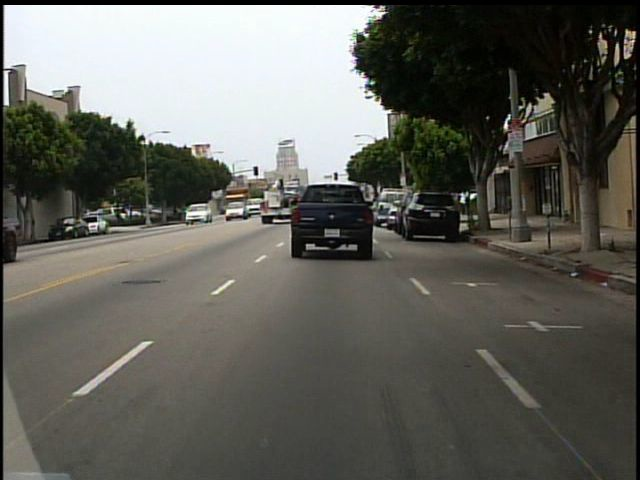person: (459, 186, 469, 220)
